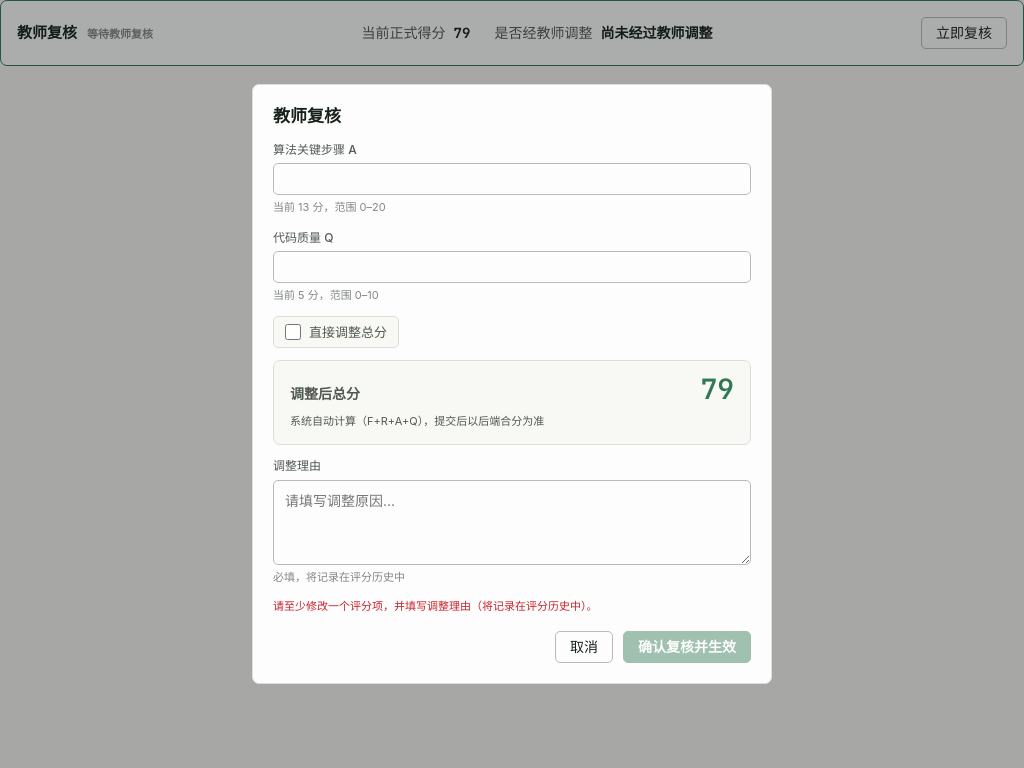
Test: TeacherReviewPanel › 总分预览随 A 修改重算（系统自动计算）
This screenshot has width=1024, height=768.
Type "10" into the number field with id "ov-a". click: (512, 180)
box: [273, 164, 751, 196]
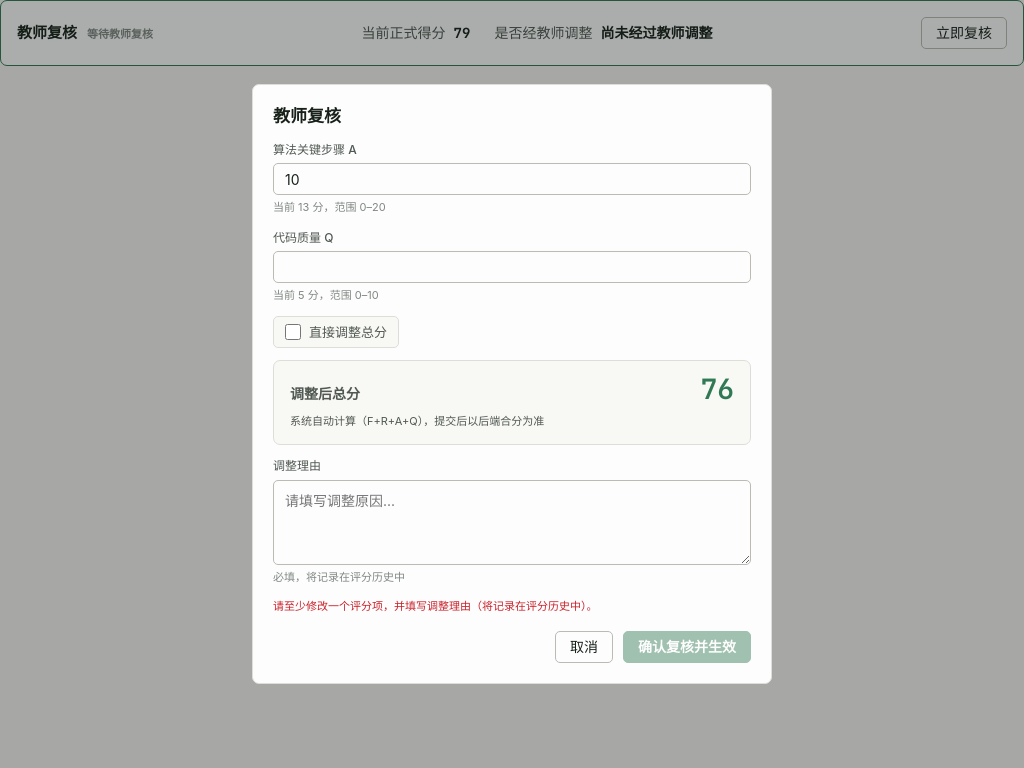
Expected: the text "系统自动计算" is shown, [290, 414, 544, 428]
Now the text "76" is shown, box [700, 375, 734, 403]
